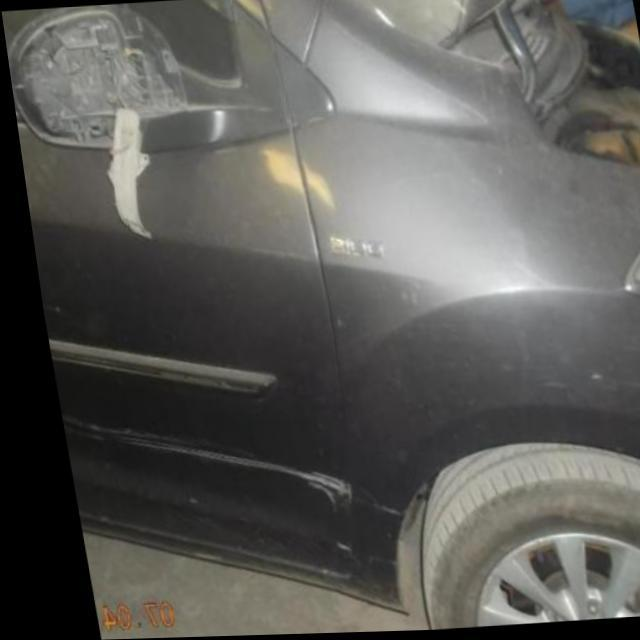scratch: (48, 408, 392, 523)
